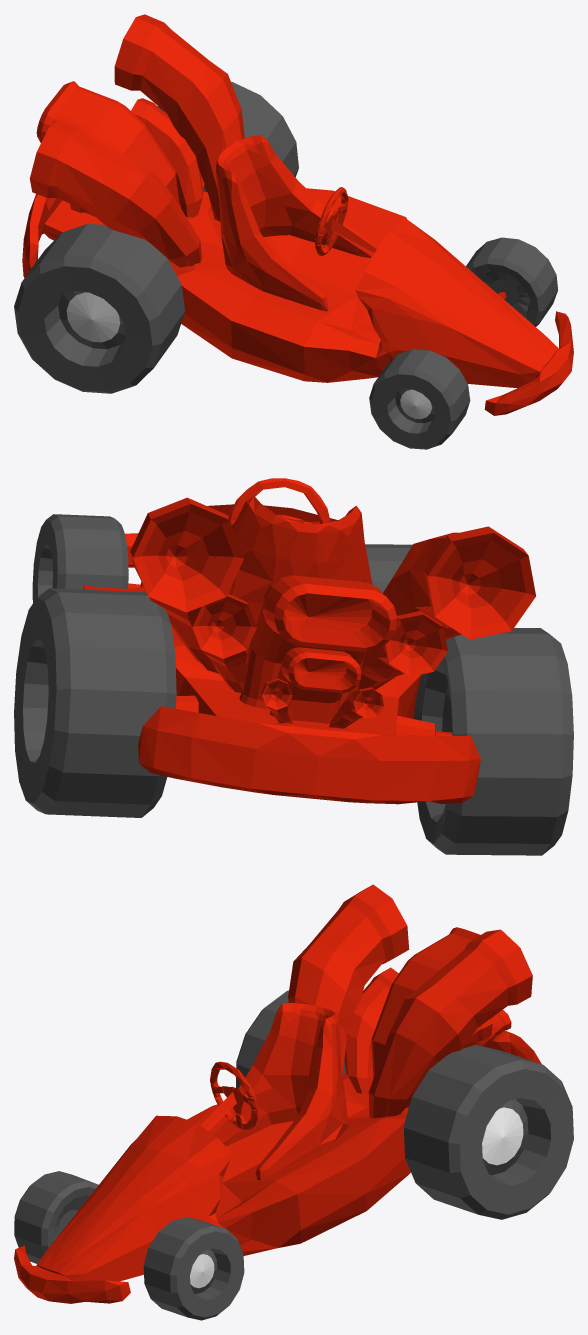
The model's file is GM_kart.glb.
The picture shows the model from 3 angles, top to bottom: view 1: azimuth 30°, elevation 25°; view 2: azimuth 150°, elevation 25°; view 3: azimuth 270°, elevation 25°; orthographic projection. The views are drawn at different scales.
Parts seen in each view (by area): view 1: body_kart01.001, wheel01_FL.008, wheel01_FL.007, wheel01_FL.003, wheel01_FL.009; view 2: body_kart01.001, wheel01_FL.009, wheel01_FL.008, wheel01_FL.003, wheel01_FL.007; view 3: body_kart01.001, wheel01_FL.009, wheel01_FL.003, wheel01_FL.007, wheel01_FL.008.
Boxes of the visible parts, box(x1,y1,x2,y2) form: body_kart01.001: box(22, 14, 573, 415); wheel01_FL.008: box(14, 223, 184, 393); wheel01_FL.007: box(369, 349, 470, 449); wheel01_FL.003: box(466, 237, 557, 326); wheel01_FL.009: box(157, 82, 298, 191); body_kart01.001: box(83, 478, 535, 804); wheel01_FL.009: box(14, 588, 176, 817); wheel01_FL.008: box(414, 628, 573, 855); wheel01_FL.003: box(32, 514, 128, 602); wheel01_FL.007: box(365, 544, 412, 592); body_kart01.001: box(14, 884, 541, 1303); wheel01_FL.009: box(403, 1045, 573, 1219); wheel01_FL.003: box(143, 1217, 244, 1320); wheel01_FL.007: box(14, 1171, 98, 1263); wheel01_FL.008: box(236, 990, 345, 1088).
Size of the model in its own units: 0.4964 by 0.3017 by 0.5081.
